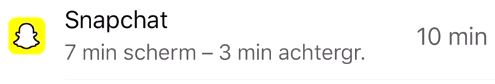name: (60, 6, 177, 33)
time: (59, 39, 123, 66), (217, 42, 278, 65)
